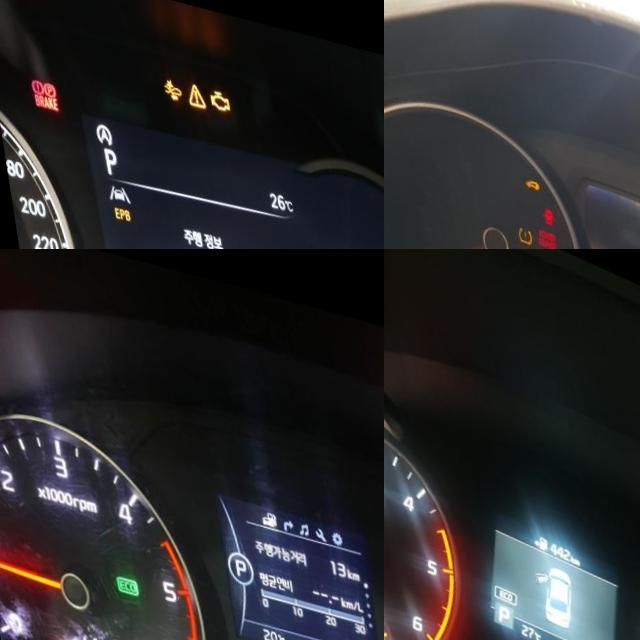Central Warning lamp: (182, 71, 203, 98)
Doors: (529, 191, 545, 211)
LaneCenteringOff: (99, 176, 123, 199)
